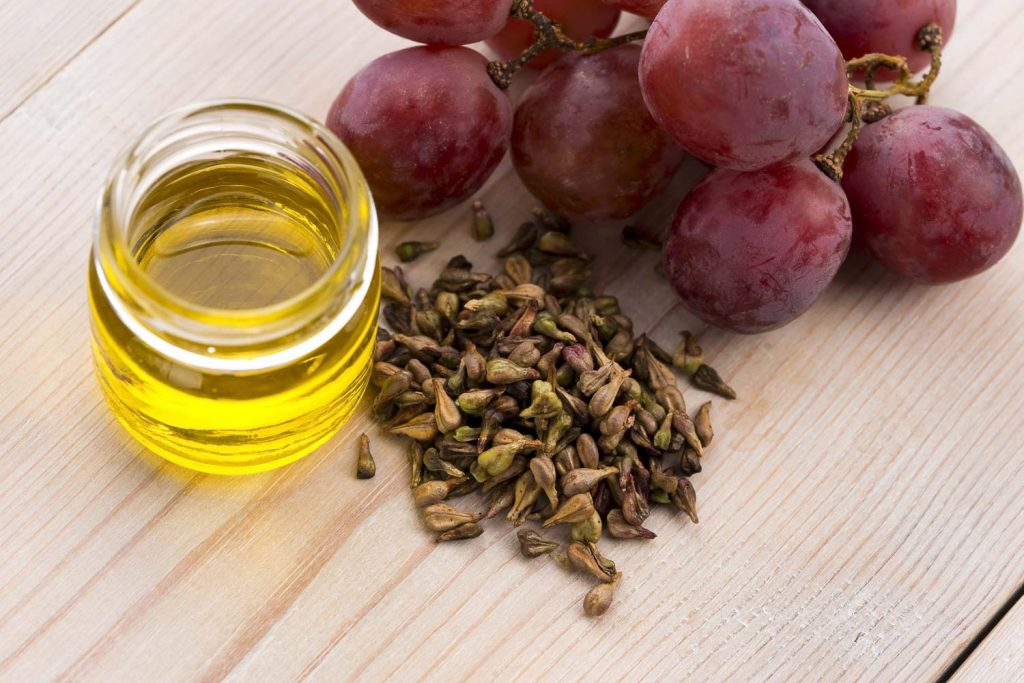Red Grapes: (654, 4, 863, 177), (347, 39, 520, 206)
